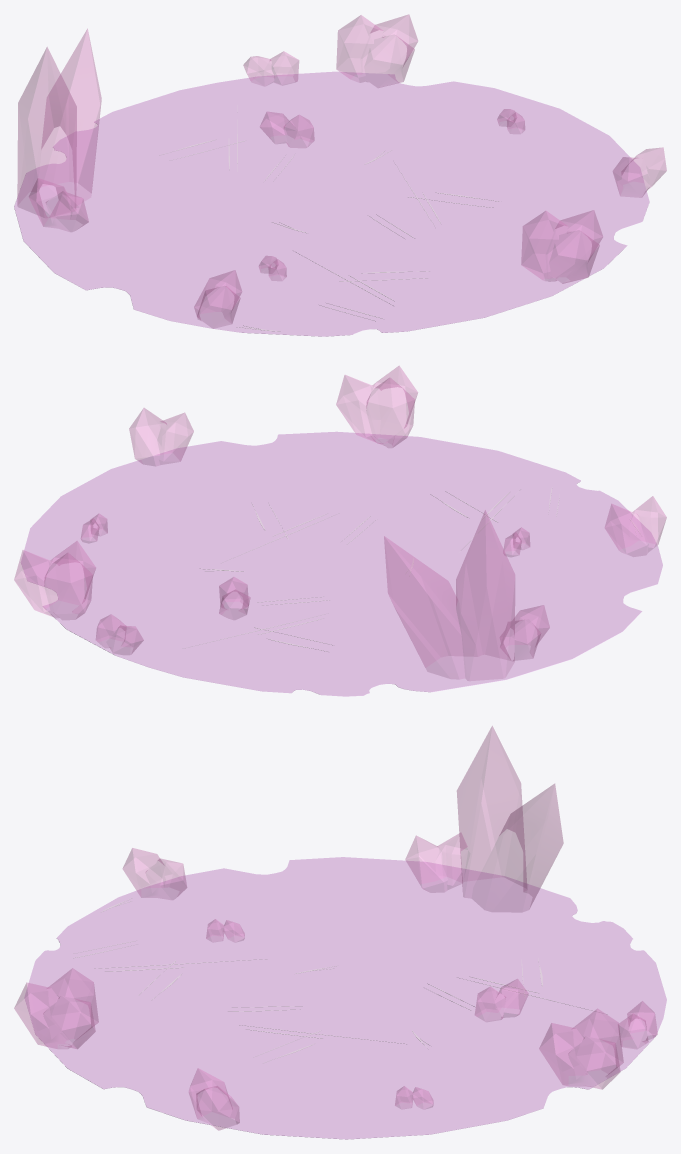
Rendered from CrystalLevel.fbx.
The picture shows the model from 3 angles, top to bottom: view 1: azimuth 30°, elevation 25°; view 2: azimuth 150°, elevation 25°; view 3: azimuth 270°, elevation 25°; orthographic projection. The views are drawn at different scales.
Visible parts, largest first — view 1: CrystalGround, Crystals, CrystalSticks; view 2: CrystalGround, Crystals, CrystalSticks; view 3: CrystalGround, Crystals, CrystalSticks.
Boxes of the visible parts, <box> form: CrystalGround: <box>14,71,649,336</box>; Crystals: <box>17,14,666,328</box>; CrystalSticks: <box>159,105,499,331</box>; CrystalGround: <box>21,431,662,696</box>; Crystals: <box>14,366,666,680</box>; CrystalSticks: <box>182,487,642,651</box>; CrystalGround: <box>24,857,666,1139</box>; Crystals: <box>14,726,657,1130</box>; CrystalSticks: <box>73,898,607,1063</box>.
Size of the model in its own units: 659 by 180 by 644.
